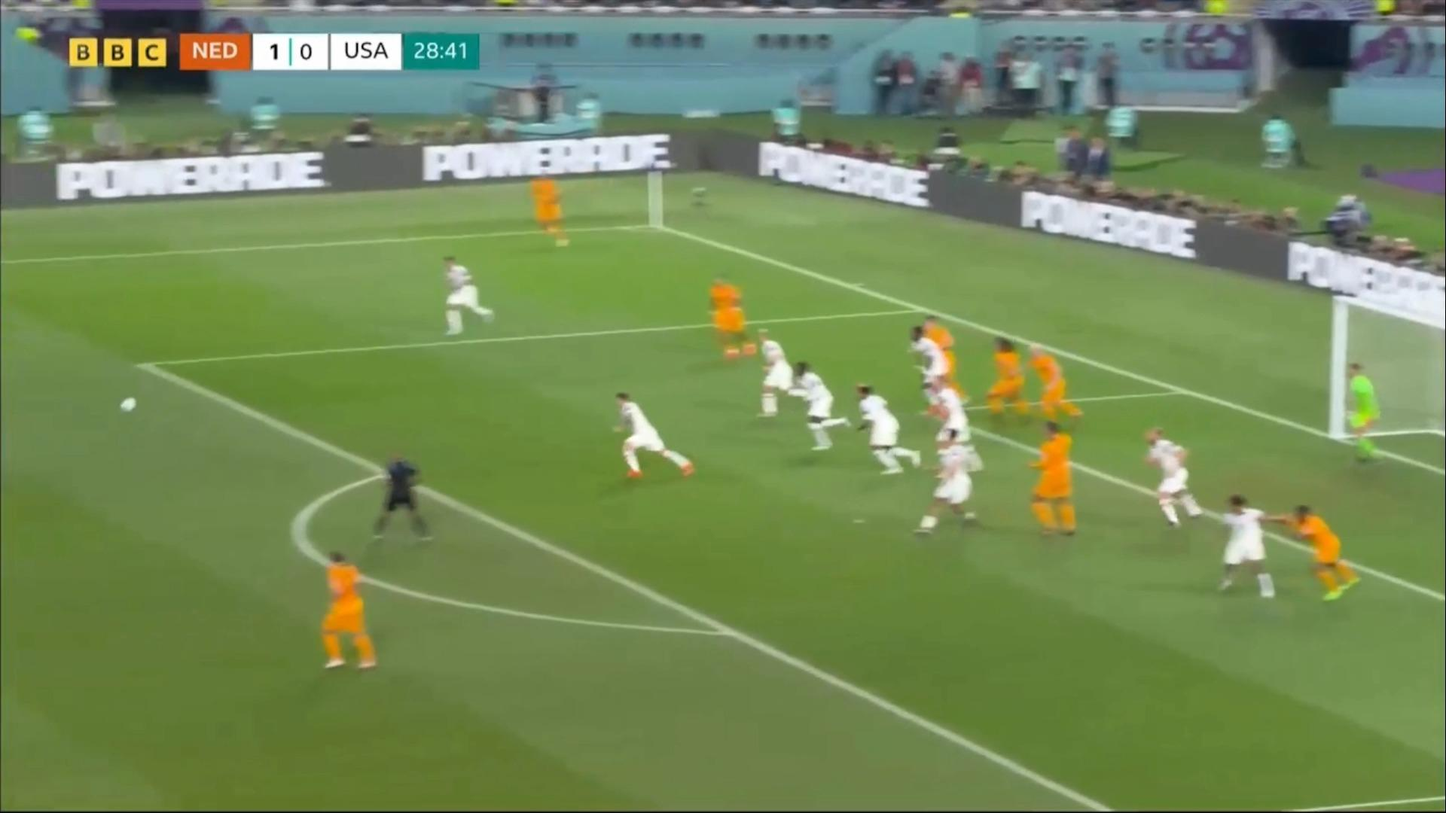Ball: (120, 396, 139, 415)
Player: (1281, 502, 1364, 603), (1136, 425, 1212, 534), (314, 550, 382, 670), (605, 393, 695, 481), (914, 429, 987, 535), (1213, 492, 1278, 603), (1025, 423, 1083, 542), (849, 382, 920, 479), (924, 378, 987, 474), (437, 247, 494, 338), (923, 313, 974, 411), (792, 367, 850, 451), (1024, 345, 1082, 427), (705, 272, 757, 361), (984, 334, 1032, 422), (903, 322, 949, 413), (758, 330, 805, 418), (1345, 362, 1384, 465), (528, 169, 572, 251)
Ref: (366, 458, 438, 539)
